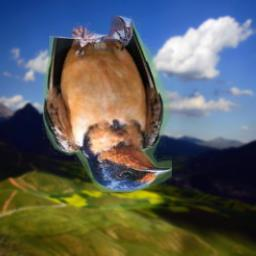Swallow: (42, 15, 172, 192)
